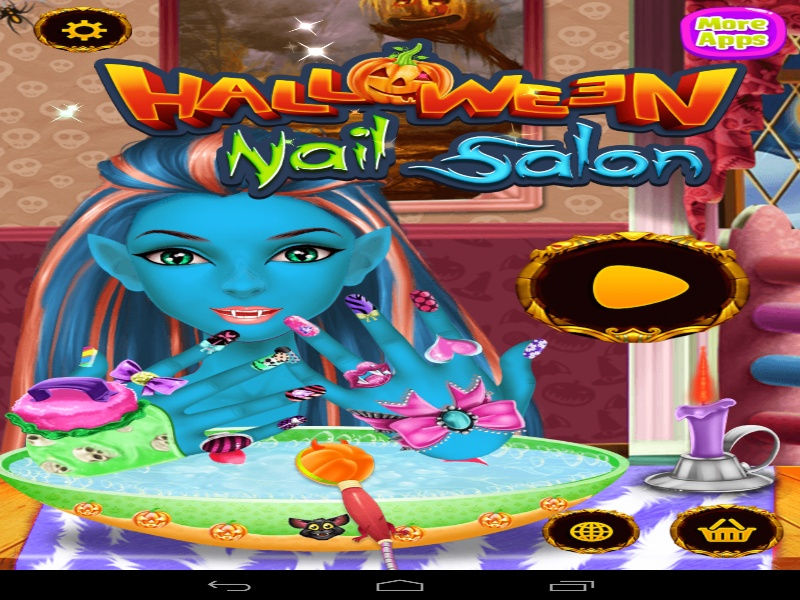Input: (0, 0, 34, 24)
